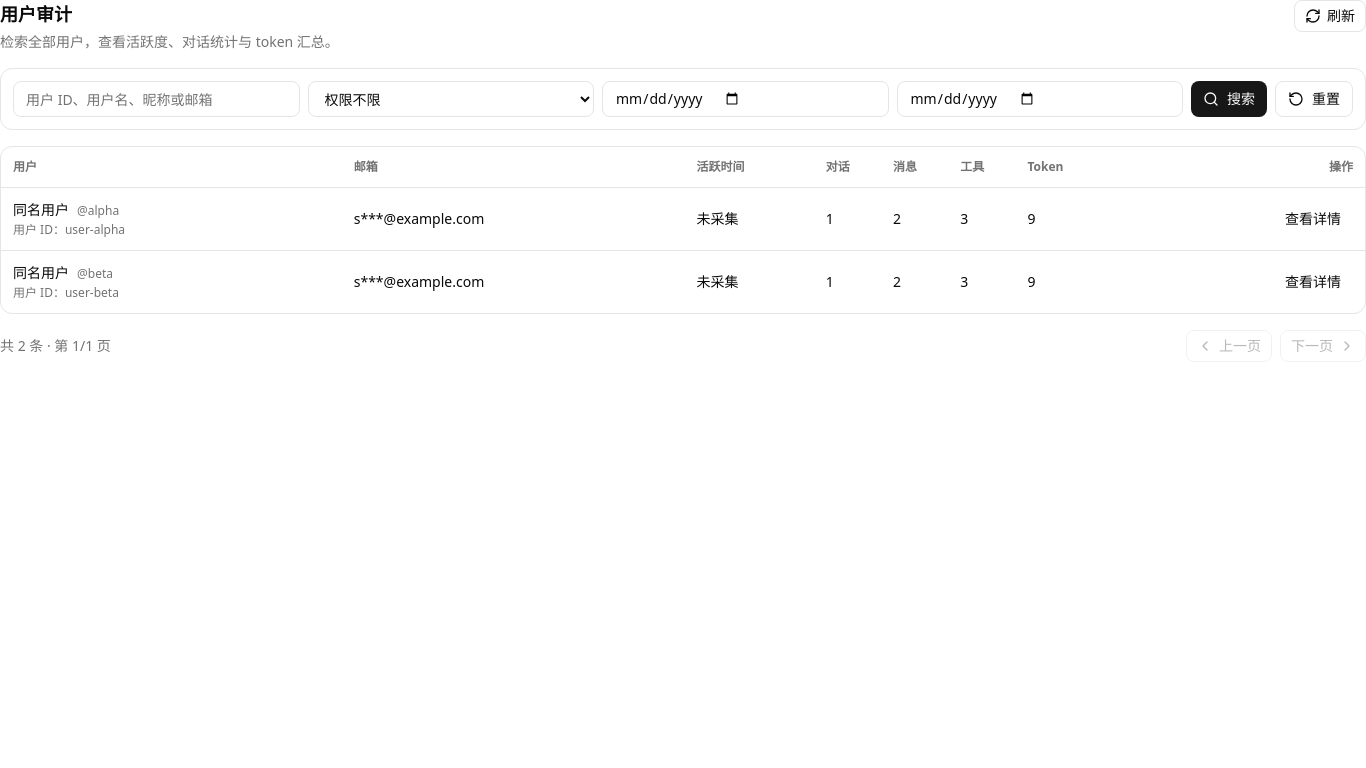
it: AdminUsersPanel › 首次详情失败时保持弹窗，并可重试成功
Expected: the text "@alpha" is shown, [77,203,119,219]
Click the button with aria-label "查看用户详情 user-alpha" at {"x": 1313, "y": 219}, box [1273,203,1353,235]
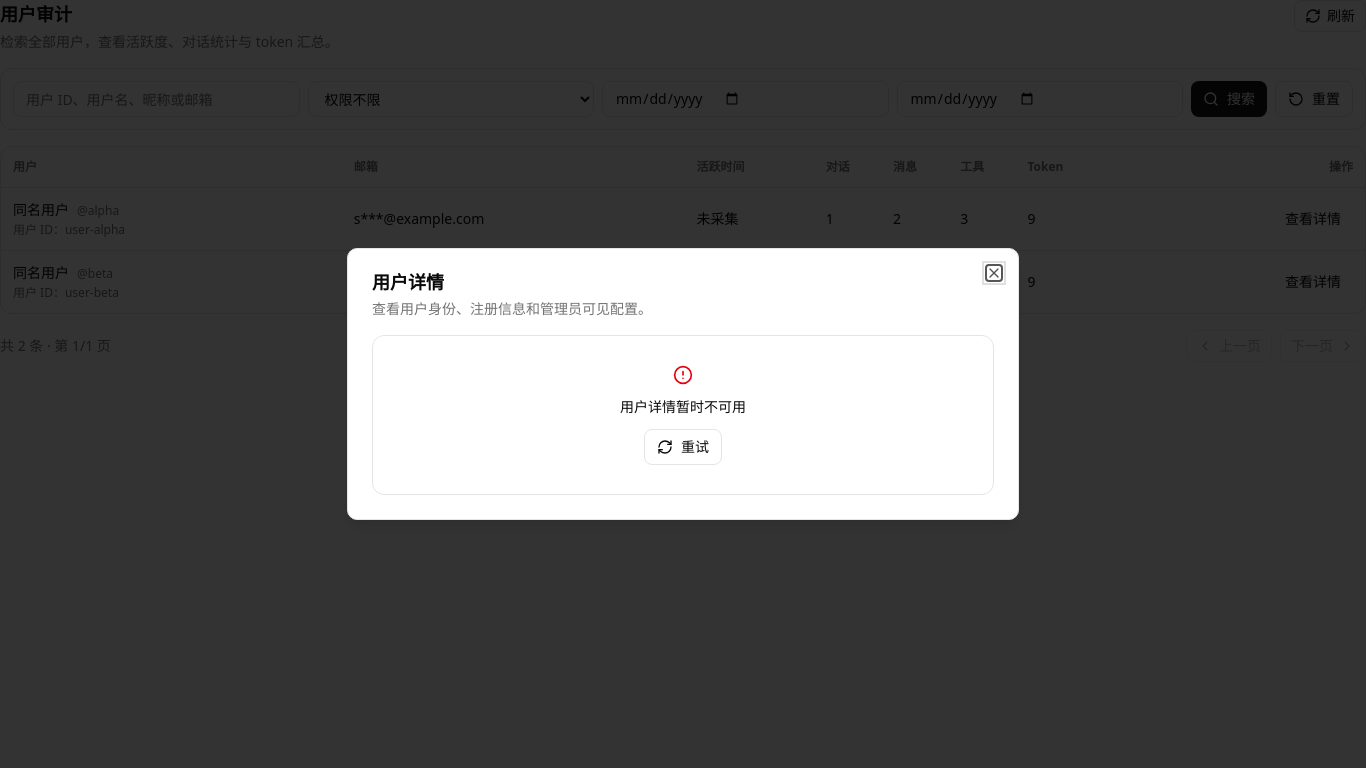
Expected: the text "用户详情暂时不可用" is shown, [620,397,746,417]
Click the button with aria-label "重试用户详情" at {"x": 683, "y": 447}, box [644,429,722,465]
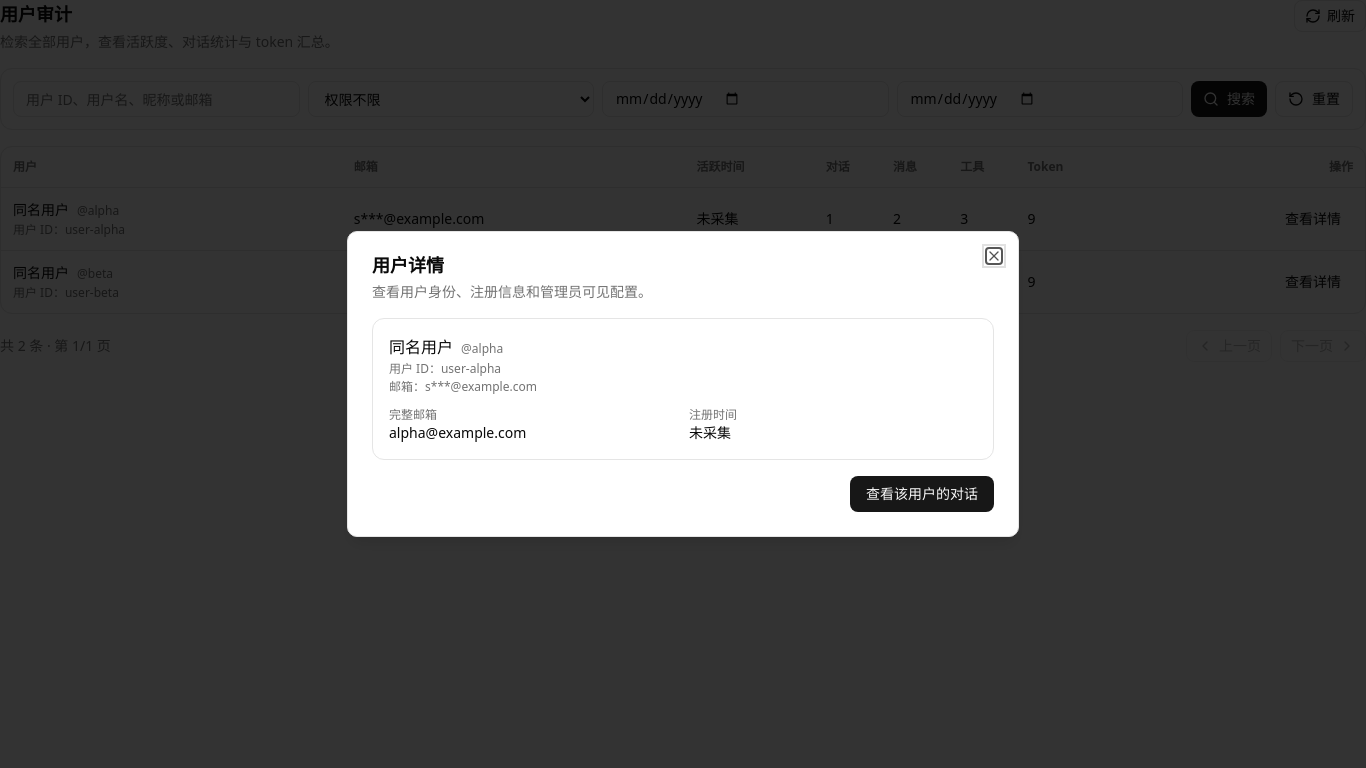
Expected: the text "alpha@example.com" is shown, [389,423,526,442]
